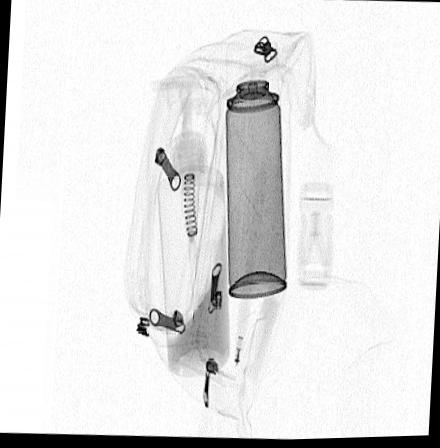Sprayer: (225, 44, 287, 301)
